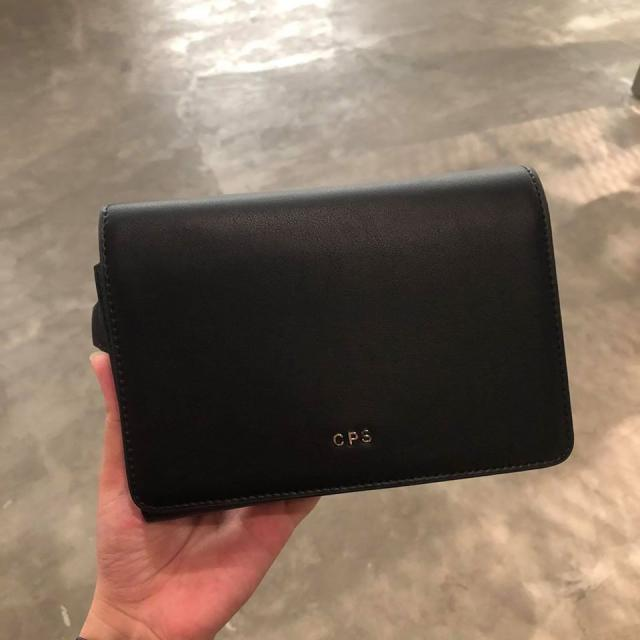Handbag: (103, 168, 567, 500)
